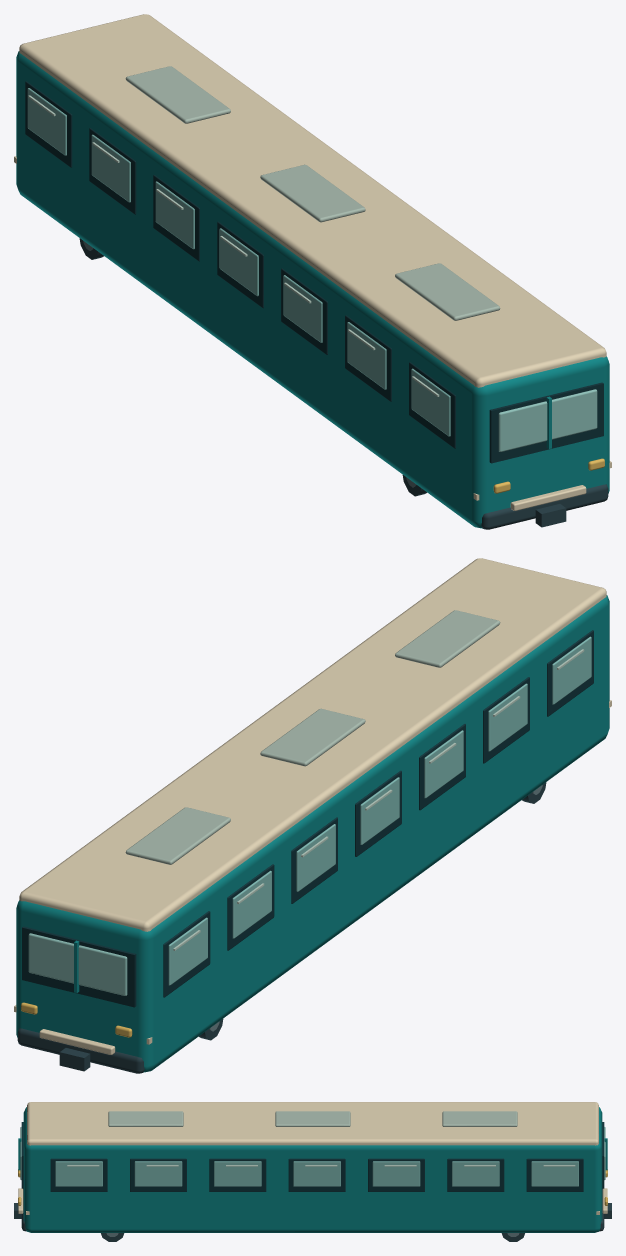
Rendered from train.glb.
3 renders of one model, top to bottom at view 1: azimuth 30°, elevation 25°; view 2: azimuth 150°, elevation 25°; view 3: azimuth 270°, elevation 25°, orthographic. The views are drawn at different scales.
Parts seen in each view (by area): view 1: item-train; view 2: item-train; view 3: item-train.
Part boxes in pixels (<box>): item-train: <box>14,14,611,529</box>; item-train: <box>14,558,611,1073</box>; item-train: <box>14,1102,611,1241</box>.
Size of the model in its own units: 2.52 by 2.78 by 14.32.
